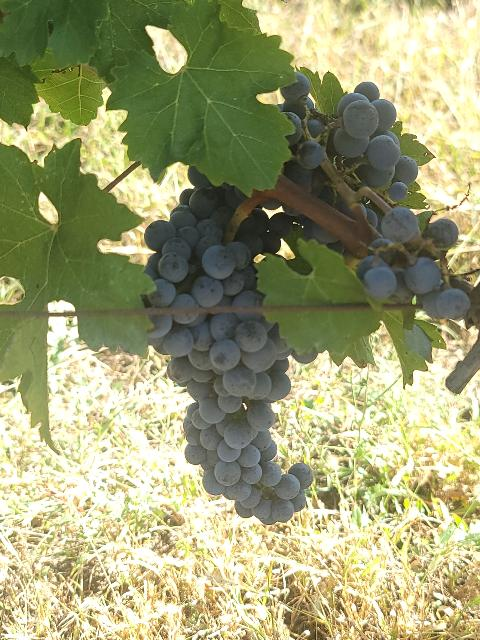grapes: (144, 169, 316, 522), (281, 72, 470, 319)
